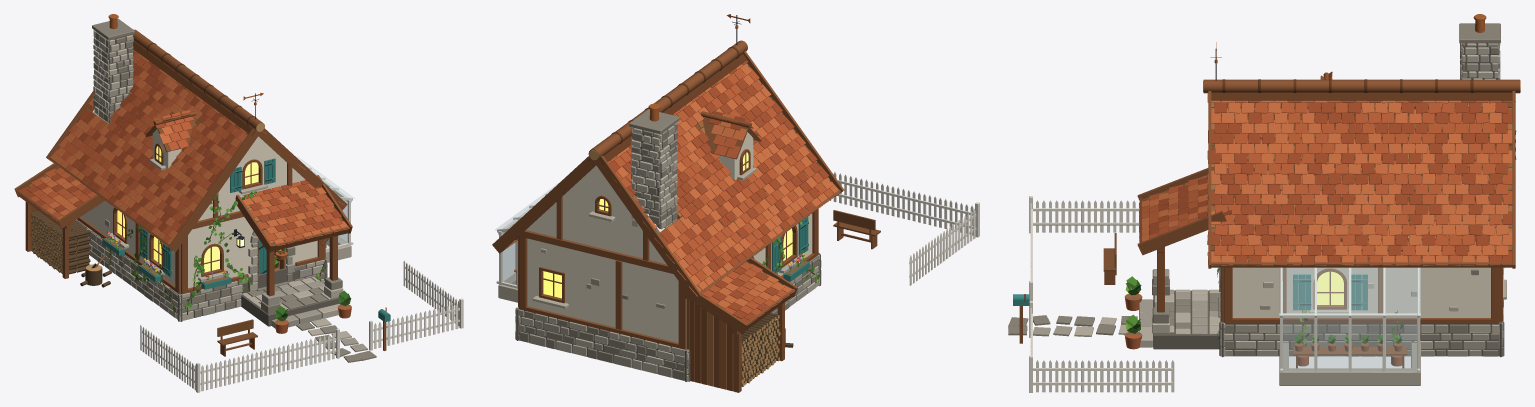
The model's file is House_Upgraded.glb.
The picture shows the model from 3 angles, left to right: view 1: azimuth 30°, elevation 25°; view 2: azimuth 150°, elevation 25°; view 3: azimuth 270°, elevation 25°; orthographic projection. The views are drawn at different scales.
Parts seen in each view (by area): view 1: HU_Roof_Tiles, HU_Yard, HU_Stone, HU_Ridge, HU_Walls, HU_Chimney, HU_Firewood, HU_Windows, HU_Timber, HU_Roof_Deck, HU_Ivy, HU_Glass (+4 smaller); view 2: HU_Roof_Tiles, HU_Walls, HU_Ridge, HU_Stone, HU_Yard, HU_Timber, HU_Chimney, HU_Shed, HU_Firewood, HU_Windows, HU_Roof_Deck, HU_Glass (+2 smaller); view 3: HU_Roof_Tiles, HU_Stone, HU_Glass, HU_Ridge, HU_Yard, HU_Walls, HU_Greenhouse, HU_Roof_Deck, HU_Timber, HU_Chimney, HU_Windows, HU_Porch.
Part boxes in pixels (box(x1,y1,x2,y2)): HU_Roof_Tiles: box(17, 49, 349, 246); HU_Yard: box(102, 92, 463, 392); HU_Stone: box(76, 158, 351, 328); HU_Ridge: box(14, 29, 352, 253); HU_Walls: box(81, 110, 317, 293); HU_Chimney: box(92, 14, 135, 150); HU_Firewood: box(30, 210, 111, 287); HU_Windows: box(113, 143, 285, 277); HU_Timber: box(76, 151, 325, 294); HU_Roof_Deck: box(27, 61, 348, 247); HU_Ivy: box(107, 191, 324, 314); HU_Glass: box(117, 146, 354, 272); HU_Roof_Tiles: box(529, 60, 840, 325); HU_Walls: box(526, 94, 812, 348); HU_Ridge: box(492, 40, 844, 334); HU_Stone: box(498, 167, 821, 381); HU_Yard: box(726, 14, 979, 285); HU_Timber: box(518, 179, 818, 349); HU_Chimney: box(629, 103, 679, 229); HU_Shed: box(684, 294, 784, 392); HU_Firewood: box(741, 313, 793, 386); HU_Windows: box(539, 149, 808, 303); HU_Roof_Deck: box(515, 63, 831, 326); HU_Glass: box(495, 152, 792, 298); HU_Roof_Tiles: box(1139, 71, 1516, 265); HU_Stone: box(1139, 267, 1506, 385); HU_Glass: box(1279, 205, 1420, 371); HU_Ridge: box(1137, 72, 1520, 268); HU_Yard: box(1008, 42, 1221, 392); HU_Walls: box(1227, 103, 1495, 317); HU_Greenhouse: box(1279, 267, 1420, 372); HU_Roof_Deck: box(1143, 103, 1512, 262); HU_Timber: box(1220, 237, 1502, 323); HU_Chimney: box(1459, 14, 1500, 200); HU_Windows: box(1267, 190, 1388, 310); HU_Porch: box(1157, 247, 1164, 312).
Bounding box in the file's own units: 9.7 × 7.69 × 13.01.
